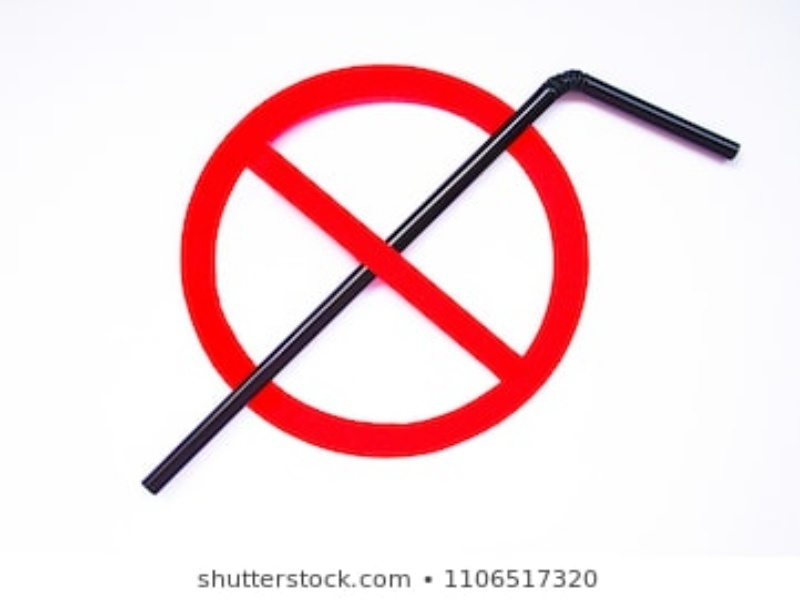straw: (130, 58, 740, 503)
